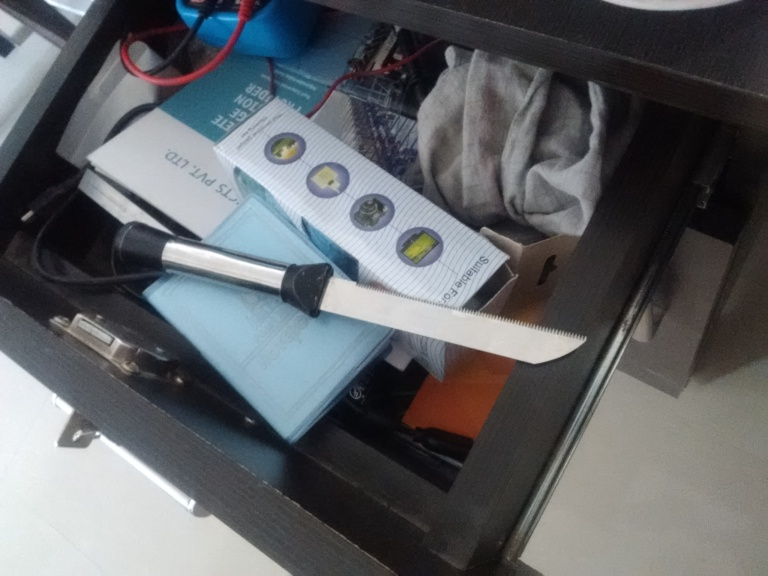knife: (110, 217, 589, 365)
